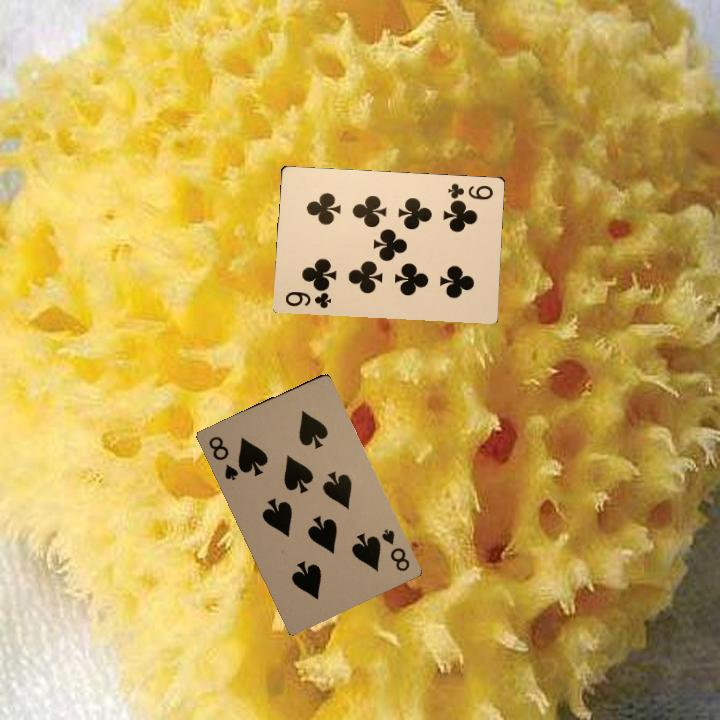8s: (205, 432, 241, 483), (377, 525, 412, 574)
9c: (444, 179, 496, 204), (281, 287, 334, 311)
